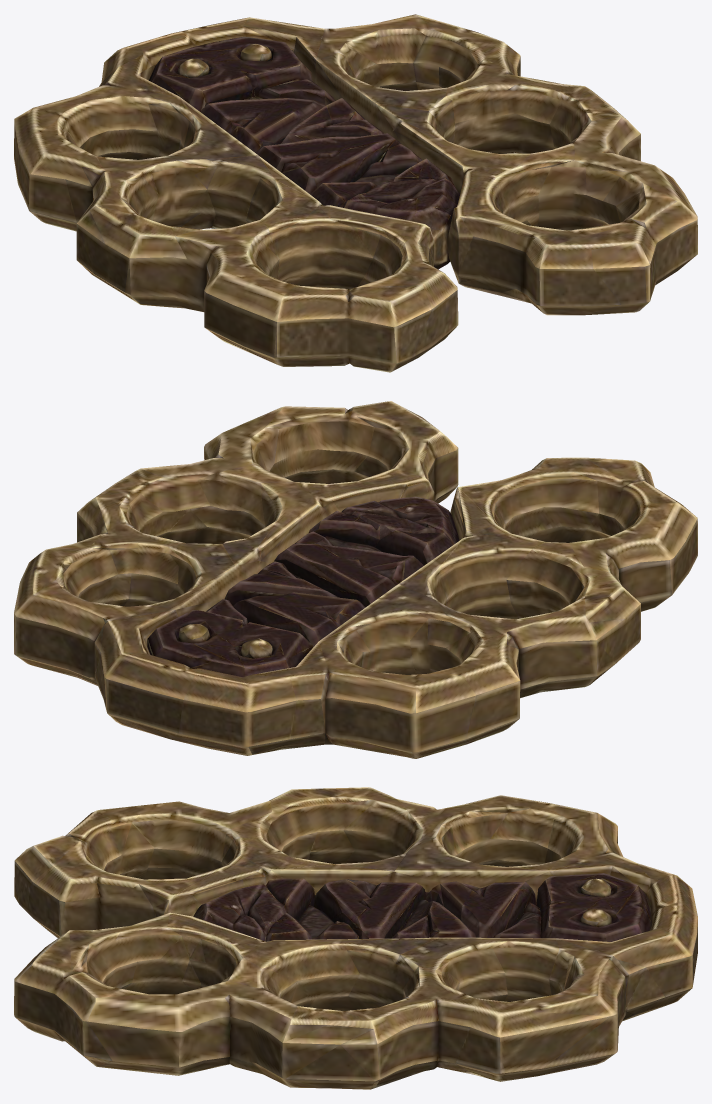
The model's file is alley_knuckles.glb.
The picture shows the model from 3 angles, top to bottom: view 1: azimuth 30°, elevation 25°; view 2: azimuth 150°, elevation 25°; view 3: azimuth 270°, elevation 25°; orthographic projection. The views are drawn at different scales.
Bounding box in the file's own units: 0.2782 × 0.0454 × 0.3233.
Materials: 1 (1 with a texture image).
